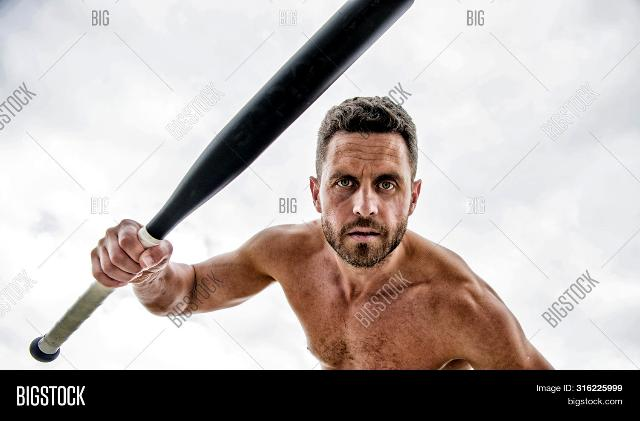baseball bat: (28, 1, 416, 364)
